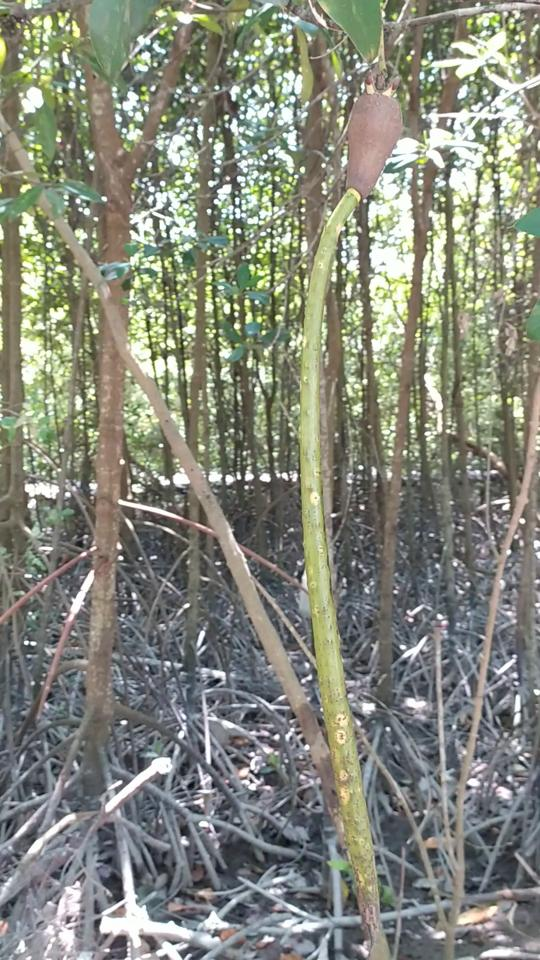setengah matang: (293, 79, 421, 955)
